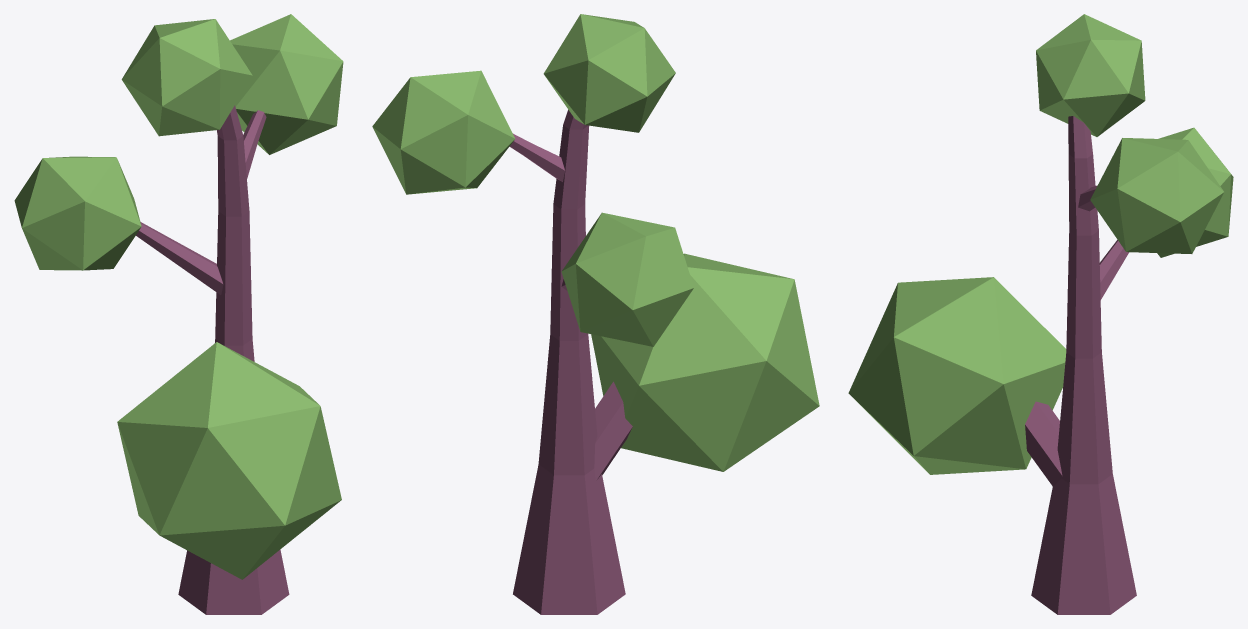
The picture shows the model from 3 angles, left to right: view 1: azimuth 30°, elevation 25°; view 2: azimuth 150°, elevation 25°; view 3: azimuth 270°, elevation 25°; orthographic projection. The views are drawn at different scales.
Visible parts, largest first — view 1: Cylinder.002, Cylinder.001, Cylinder.004, Cylinder.005, Cylinder.003, Cylinder.007, Cylinder.006; view 2: Cylinder.002, Cylinder.001, Cylinder.004, Cylinder.003, Cylinder.005, Cylinder.008, Cylinder.006; view 3: Cylinder.002, Cylinder.001, Cylinder.003, Cylinder.005, Cylinder.004, Cylinder.008, Cylinder.007.
Part boxes in pixels (<box>): Cylinder.002: <box>117,342,341,579</box>; Cylinder.001: <box>178,105,289,614</box>; Cylinder.004: <box>14,156,141,270</box>; Cylinder.005: <box>121,19,252,136</box>; Cylinder.003: <box>230,14,343,154</box>; Cylinder.007: <box>136,222,223,294</box>; Cylinder.006: <box>243,110,266,178</box>; Cylinder.002: <box>591,253,819,471</box>; Cylinder.001: <box>513,109,625,614</box>; Cylinder.004: <box>561,212,693,346</box>; Cylinder.003: <box>372,70,515,194</box>; Cylinder.005: <box>543,14,675,132</box>; Cylinder.008: <box>594,381,632,481</box>; Cylinder.006: <box>509,133,564,181</box>; Cylinder.002: <box>848,277,1066,474</box>; Cylinder.001: <box>1031,116,1136,614</box>; Cylinder.003: <box>1090,138,1224,253</box>; Cylinder.005: <box>1036,14,1145,136</box>; Cylinder.004: <box>1157,127,1233,257</box>; Cylinder.008: <box>1025,401,1062,486</box>; Cylinder.007: <box>1099,240,1128,299</box>.
Bounding box in the file's own units: 1.91 × 3.38 × 2.15.
